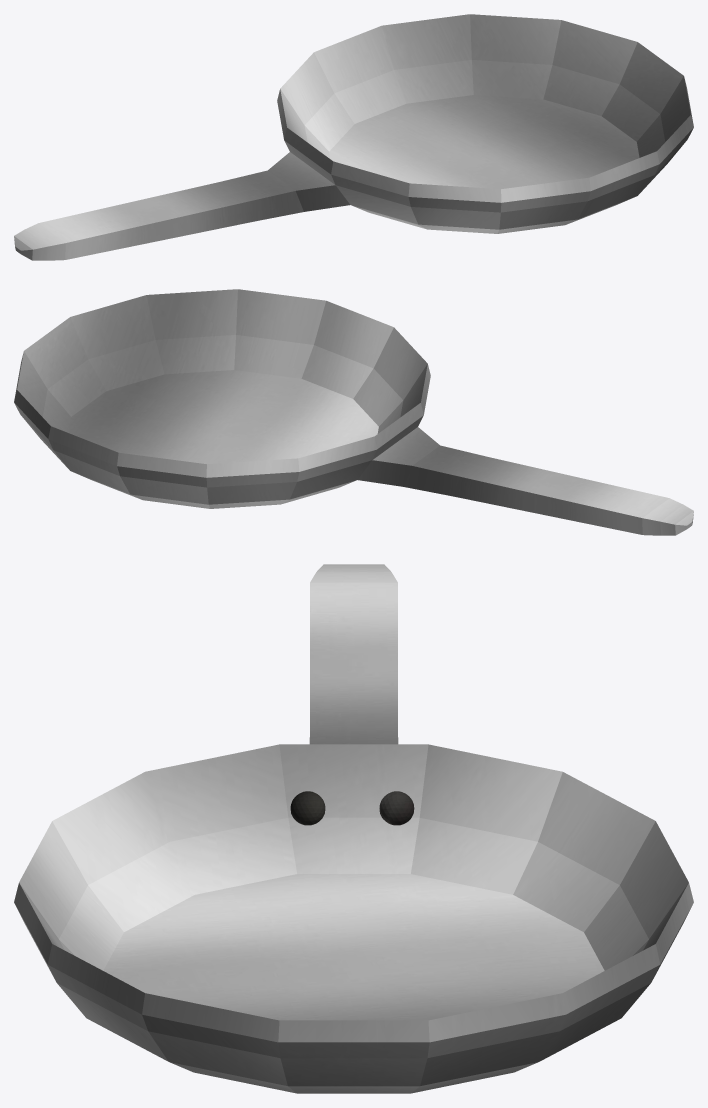
Rendered from SmallPan.fbx.
3 renders of one model, top to bottom at view 1: azimuth 30°, elevation 25°; view 2: azimuth 150°, elevation 25°; view 3: azimuth 270°, elevation 25°, orthographic. The views are drawn at different scales.
Visible parts, largest first — view 1: pan.003; view 2: pan.003; view 3: pan.003.
Part boxes in pixels (x1=…): pan.003: x1=14, y1=14, x2=693, y2=260; pan.003: x1=14, y1=289, x2=693, y2=535; pan.003: x1=14, y1=564, x2=693, y2=1093.
Size of the model in its own units: 1356 by 150 by 767.
